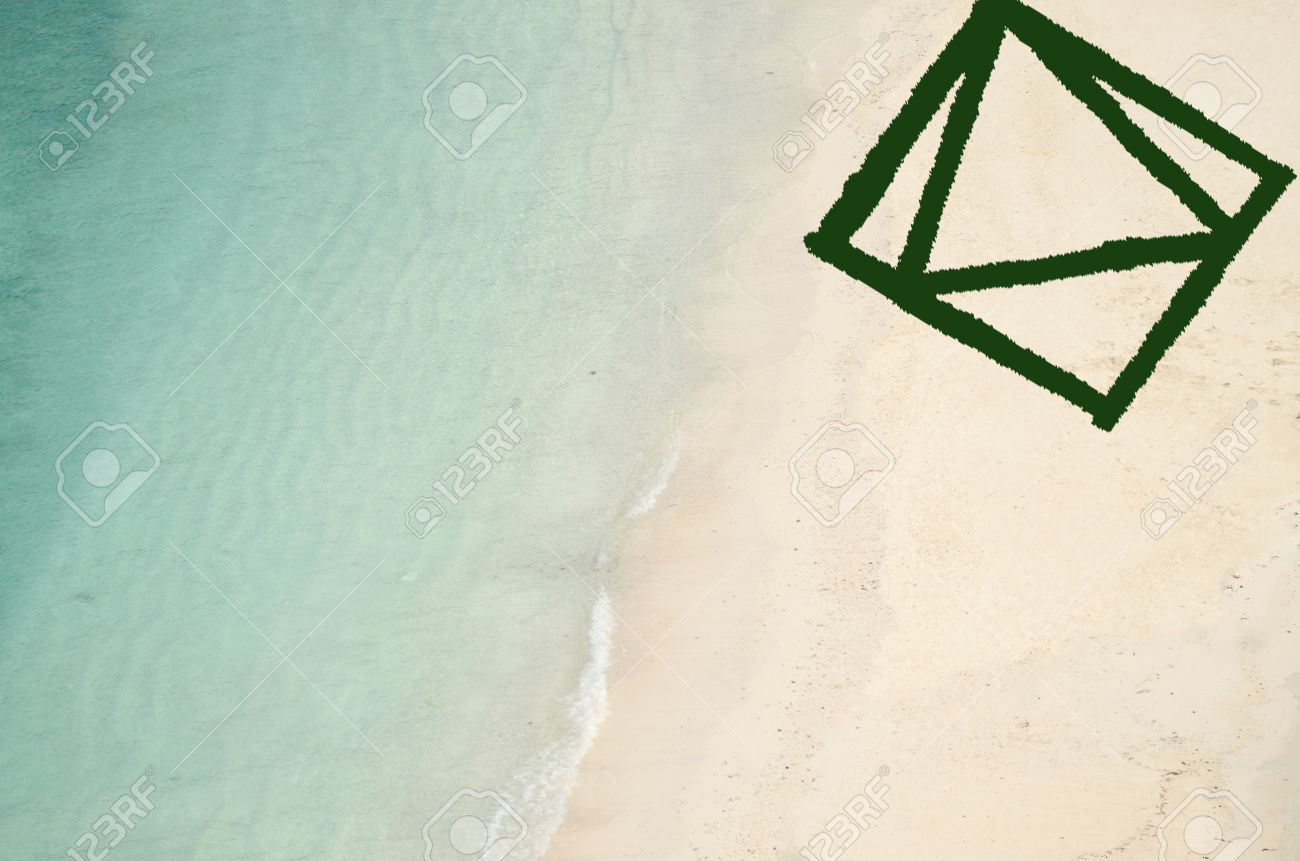marker: (789, 1, 1290, 448)
